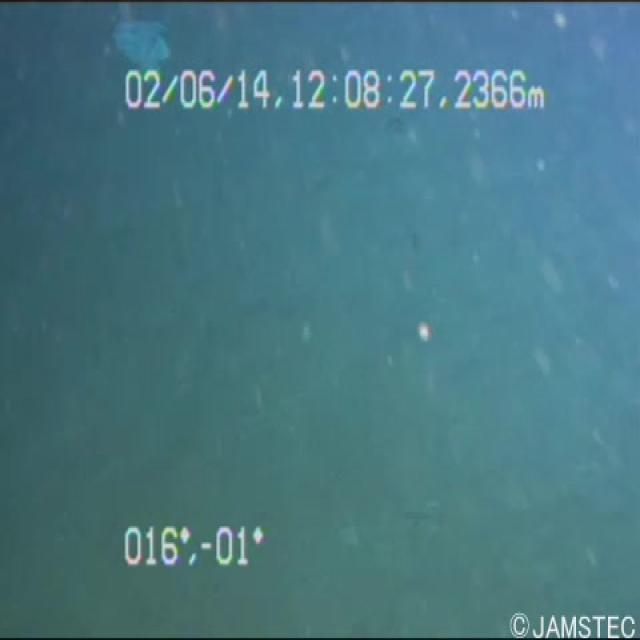plastic: (95, 9, 180, 94)
